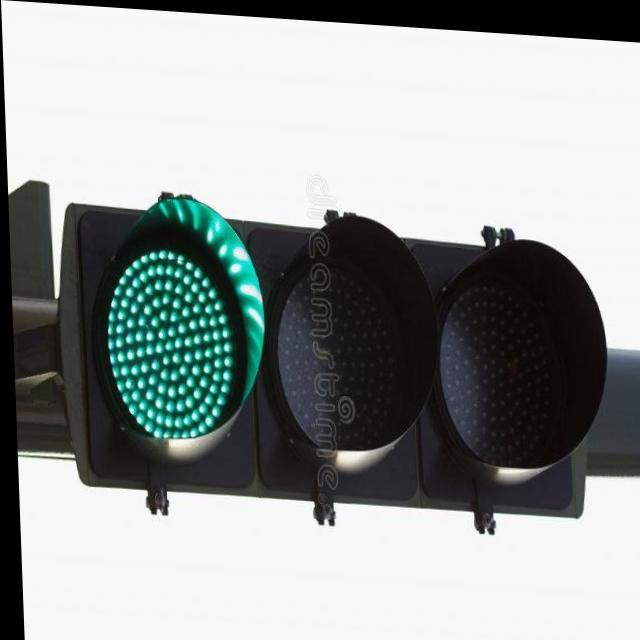green light: (77, 193, 602, 514)
